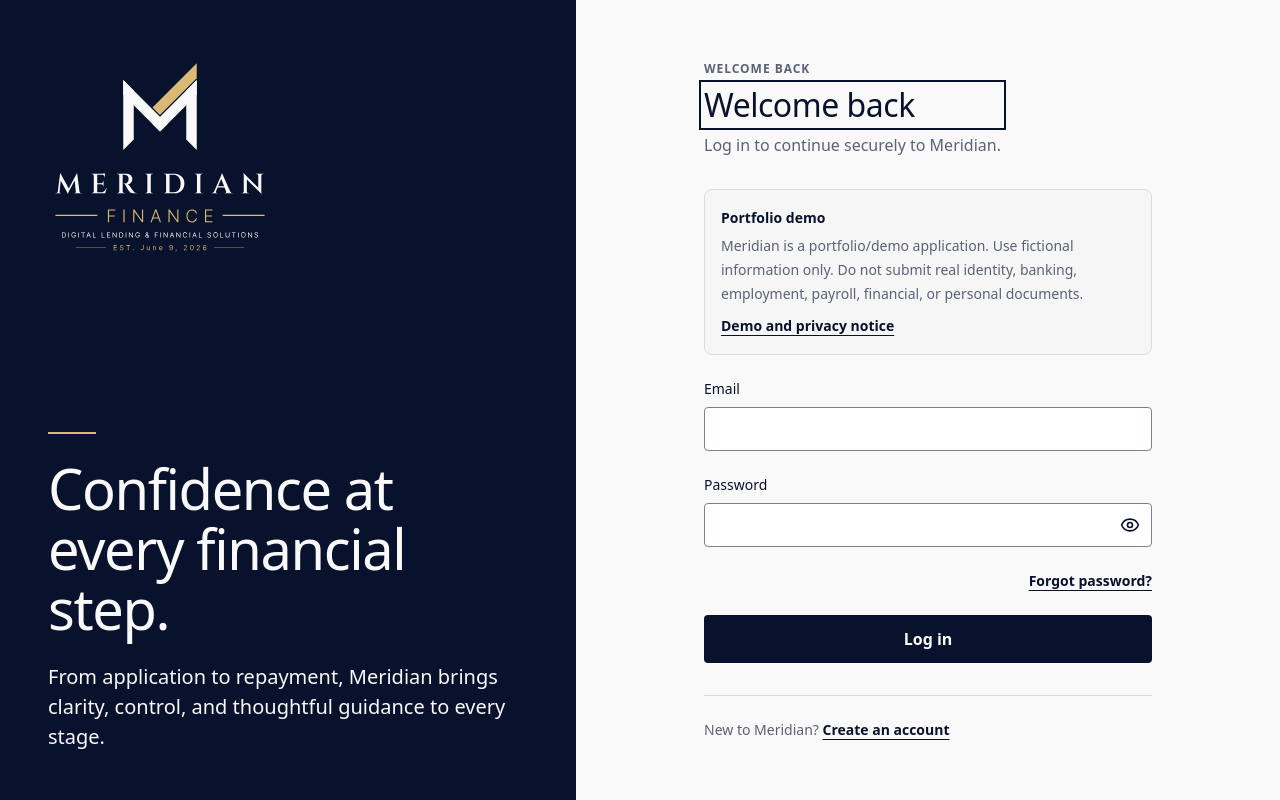
Test: Customer authentication routes › shows the fictional demo boundary and links to its public notice on /login
Expected: the element named "Portfolio demo notice" shows "Use fictional information only.", [721, 236, 1083, 302]
Expected: the element named "Portfolio demo notice" shows "Do not submit real identity, banking, employment, payroll, financial, or personal documents.", [721, 236, 1083, 302]
Click the link "Demo and privacy notice". click: {"x": 808, "y": 326}
box: [721, 314, 894, 338]
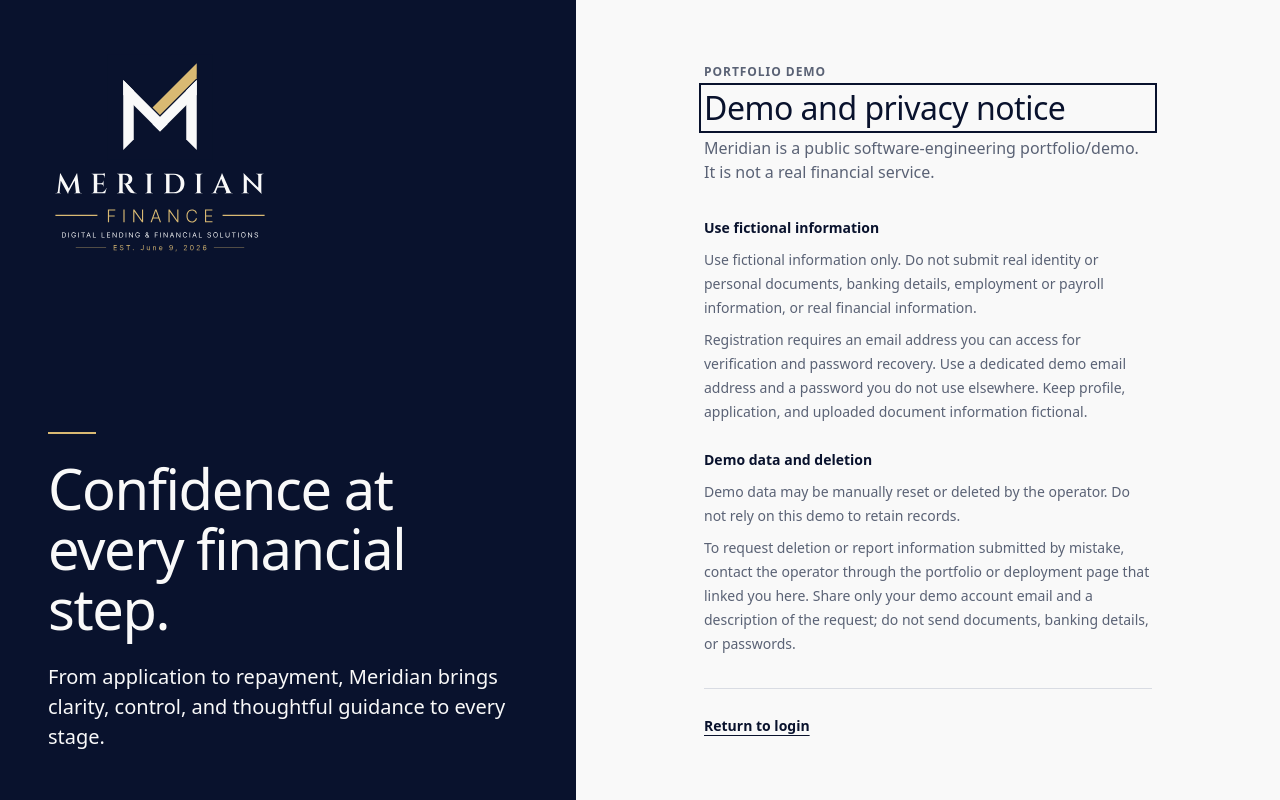
Result: the heading "Demo and privacy notice" is shown at [704, 86, 1065, 128]
Result: the text "not a real financial service" is shown at [704, 136, 1139, 182]
Result: the text "manually reset or deleted" is shown at [704, 482, 1130, 524]
